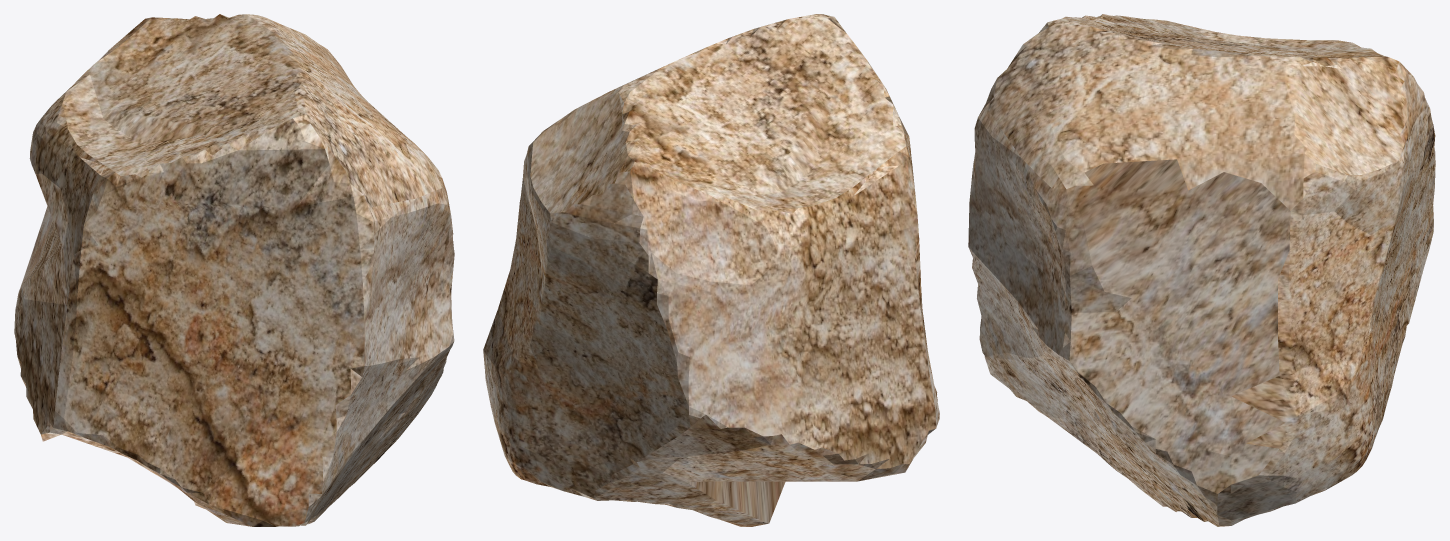
The model's file is calcaire.glb.
3 views of the same model, side by side, from view 1: azimuth 30°, elevation 25°; view 2: azimuth 150°, elevation 25°; view 3: azimuth 270°, elevation 25° (orthographic). The views are drawn at different scales.
Visible parts, largest first — view 1: Cube.001; view 2: Cube.001; view 3: Cube.001.
Boxes of the visible parts, x1,y1,x2,y2 form: Cube.001: (14,14,454,526); Cube.001: (483,14,939,526); Cube.001: (968,14,1435,526).
Bounding box in the file's own units: 1.79 × 1.97 × 1.83.
1 material, 1 textured.
